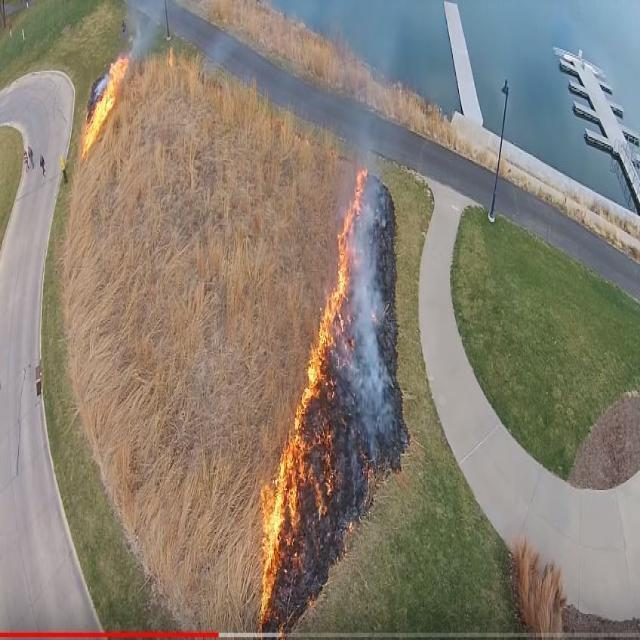Fire: (292, 374, 330, 524), (260, 456, 292, 614), (312, 303, 348, 371), (80, 90, 106, 154), (342, 168, 366, 232), (332, 234, 350, 300), (108, 55, 125, 106)
Smoke: (350, 238, 386, 464)
